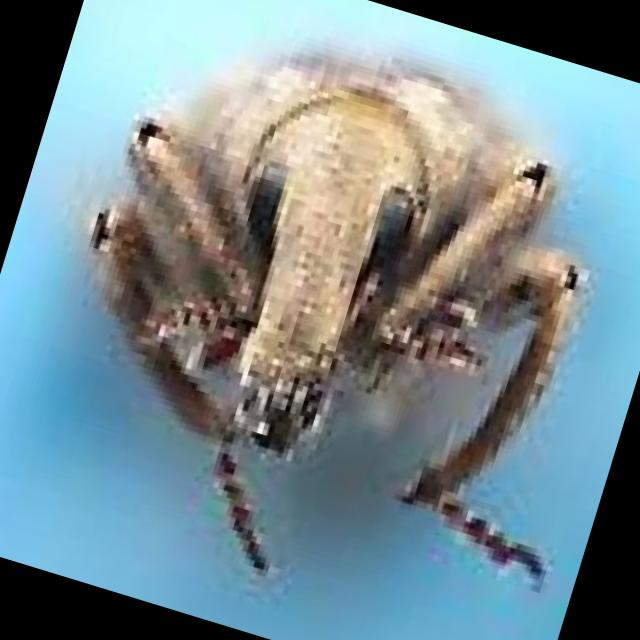rice-bug: (90, 47, 584, 586)
